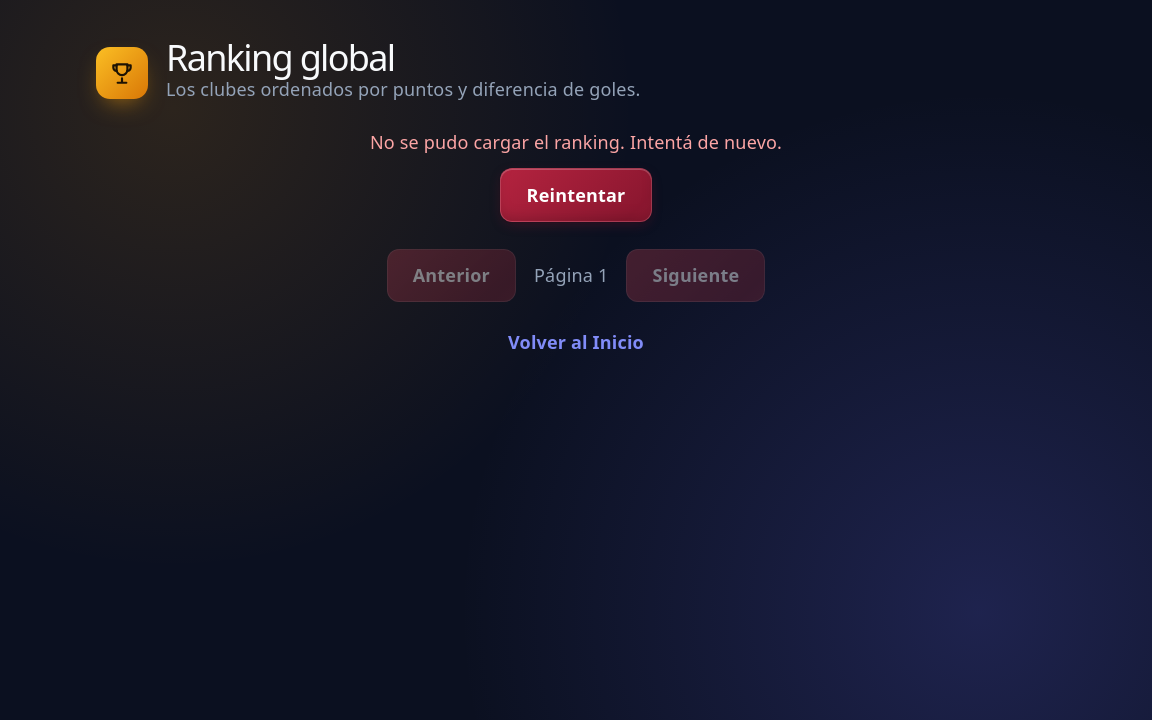
Test: RankingPage › Debería mostrar el error y volver a pedir el ranking al tocar Reintentar
Expected: the message "No se pudo cargar el ranking. Intentá de nuevo. Reintentar" is shown, top-left (370, 129), bottom-right (782, 222)
Click the button "Reintentar" at (576, 195), box top-left (500, 168), bottom-right (652, 222)
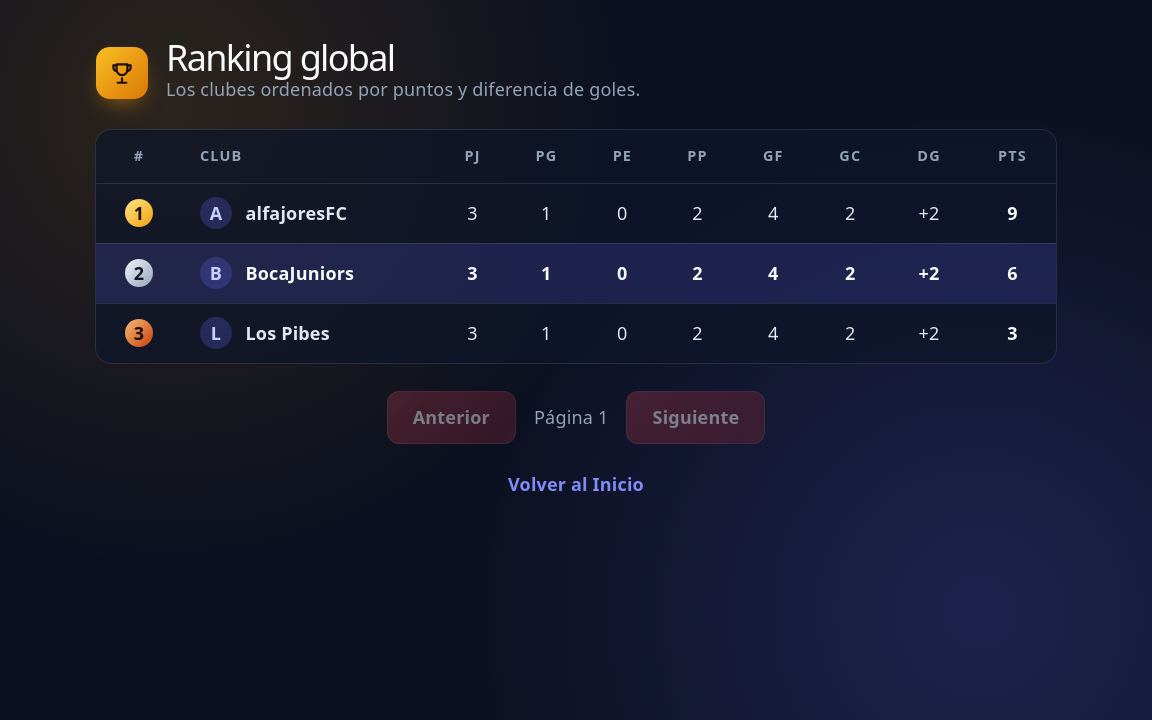
Result: the text "alfajoresFC" is shown at top-left (246, 200), bottom-right (347, 226)
